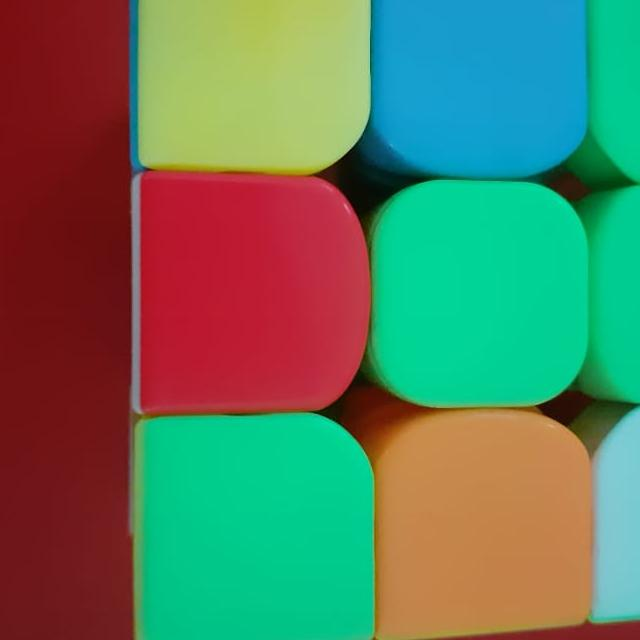Blue: (143, 0, 364, 169), (380, 0, 581, 173)
Green: (139, 426, 371, 640), (381, 181, 586, 410), (595, 188, 640, 403), (587, 0, 640, 181)
Orange: (387, 418, 587, 625)
Red: (146, 176, 370, 408)
White: (605, 414, 640, 614)
